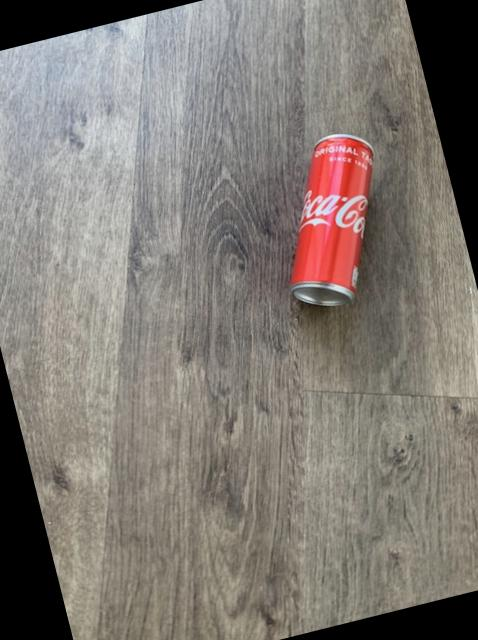metal: (291, 135, 373, 306)
